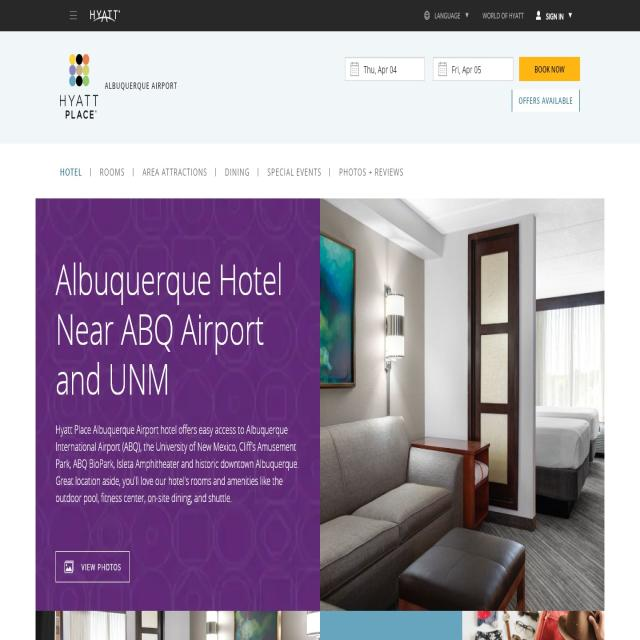button: (320, 200, 605, 612), (54, 552, 130, 583), (135, 160, 213, 190), (330, 161, 405, 188), (260, 161, 328, 190), (418, 1, 474, 31), (521, 57, 582, 84), (511, 90, 580, 112), (478, 0, 523, 32), (529, 0, 574, 28), (220, 157, 256, 188), (56, 155, 89, 187), (90, 160, 132, 184), (71, 5, 79, 22)
field: (346, 52, 423, 84), (434, 54, 512, 83)
heading: (47, 259, 293, 401), (57, 91, 102, 128), (86, 5, 122, 28)
image: (68, 49, 92, 90)
text: (53, 421, 301, 515), (103, 74, 176, 91)
